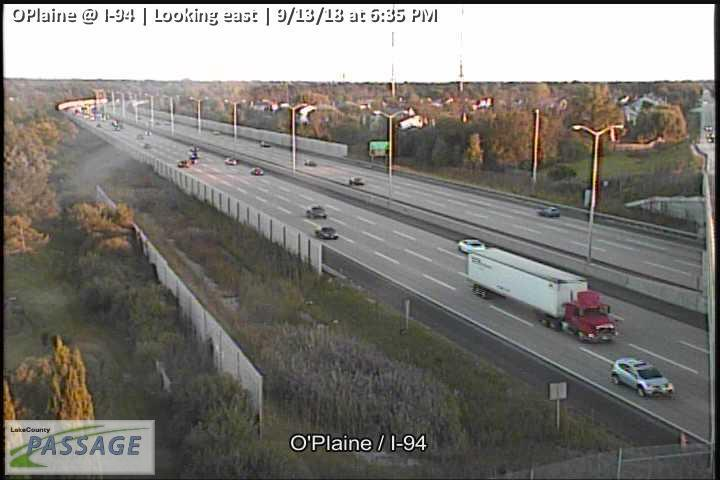SUV: (612, 357, 674, 397), (537, 207, 560, 216)
Sedan: (459, 239, 485, 254), (315, 226, 337, 240), (305, 205, 326, 219), (350, 175, 365, 185), (250, 167, 263, 176), (304, 160, 317, 167), (226, 158, 236, 164)
Truck: (468, 248, 623, 344)
